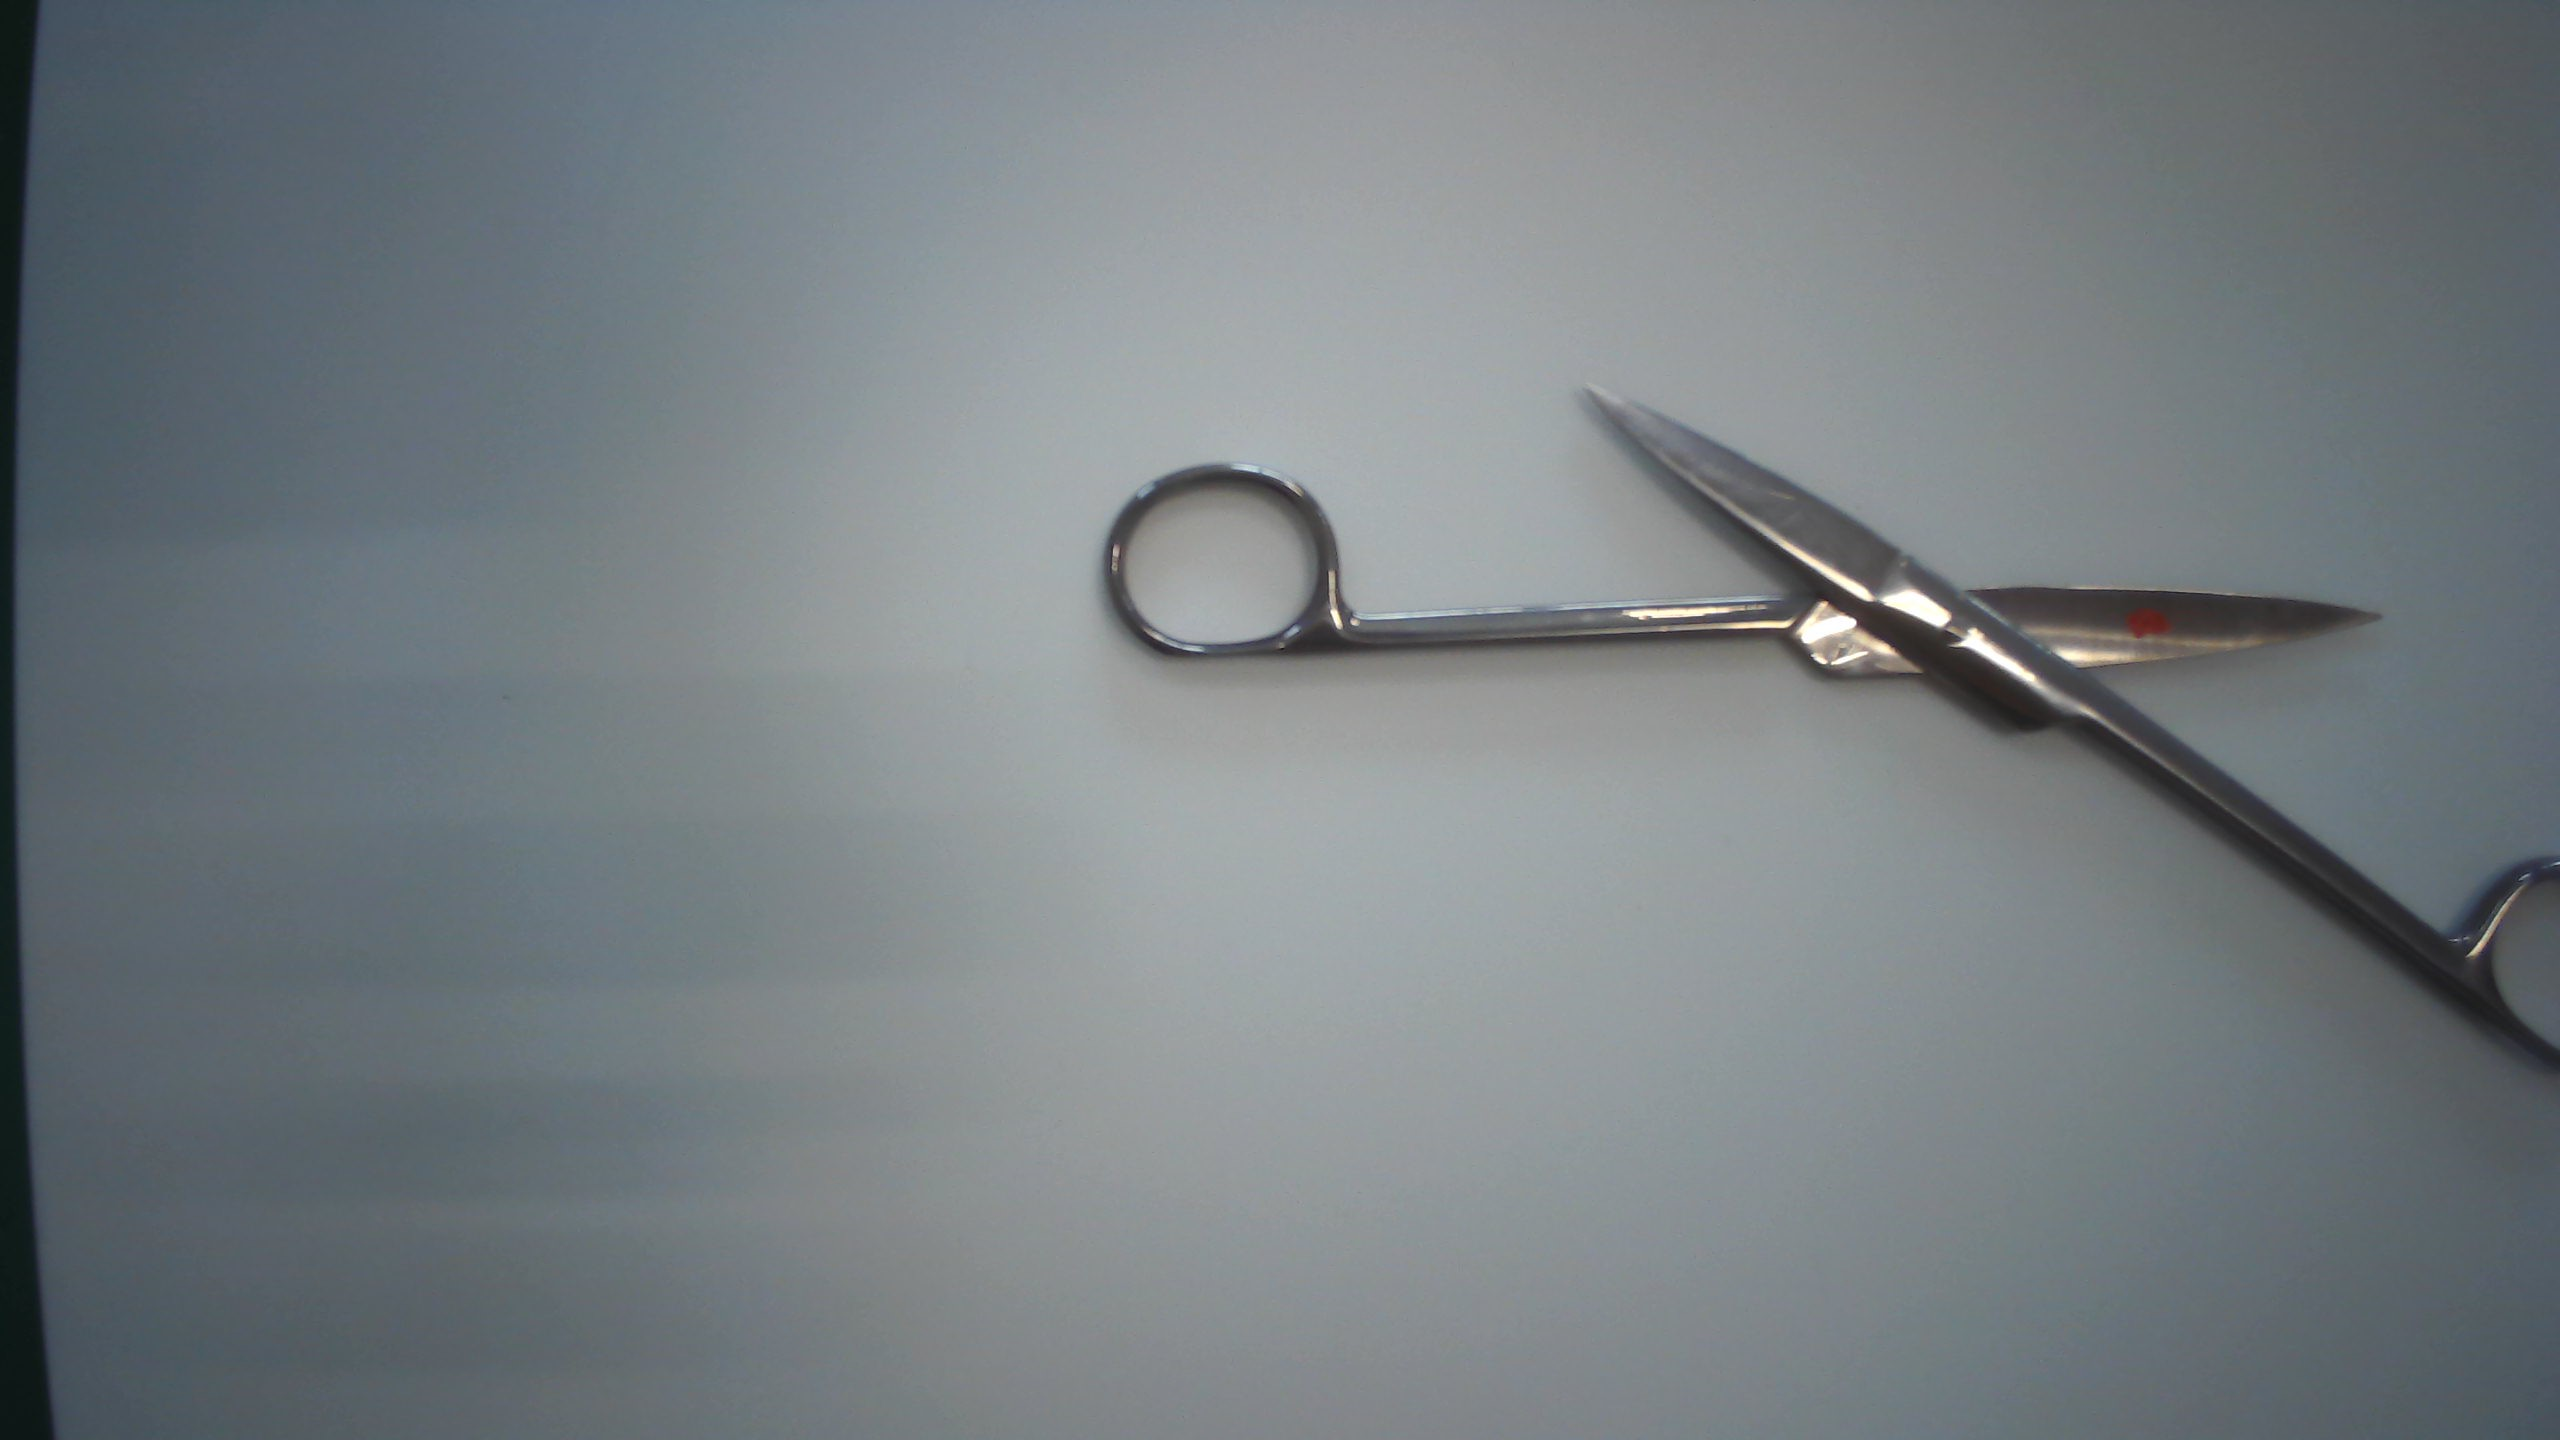Stain: (2119, 587, 2180, 647)
